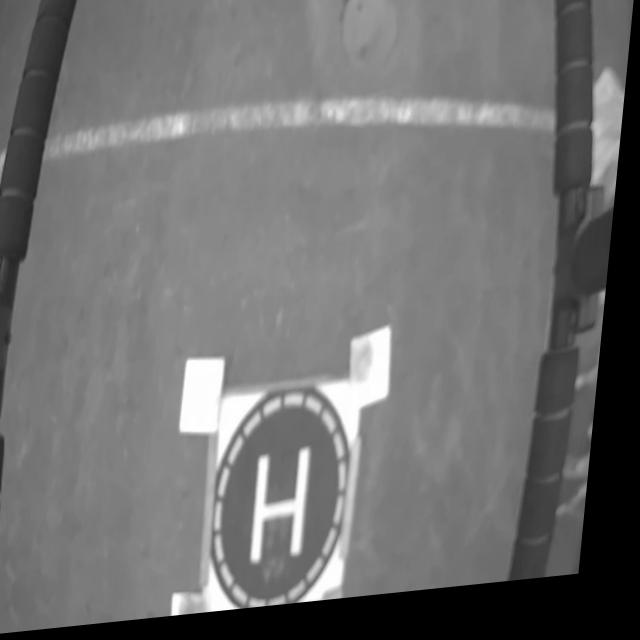Helipad: (262, 453, 322, 571)
